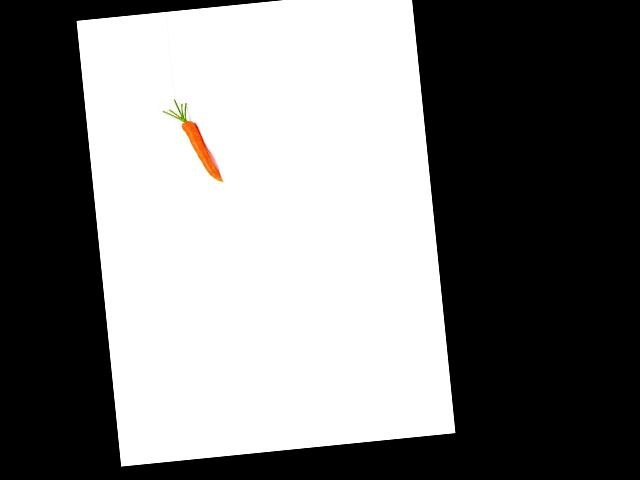carrot: (175, 110, 224, 187)
